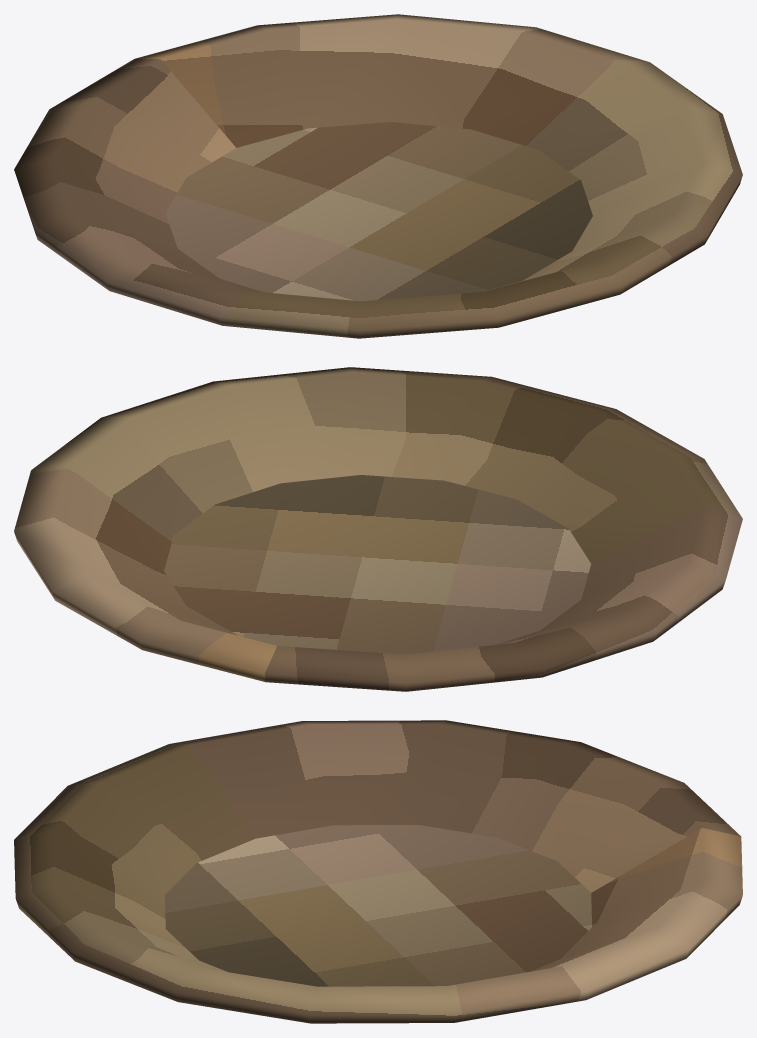
Rendered from PotsNPanDestruction.009_Cube.012.fbx.
3 views of the same model, one above another, from view 1: azimuth 30°, elevation 25°; view 2: azimuth 150°, elevation 25°; view 3: azimuth 270°, elevation 25° (orthographic).
Parts seen in each view (by area): view 1: PotsNPanDestruction_009_Cube_012; view 2: PotsNPanDestruction_009_Cube_012; view 3: PotsNPanDestruction_009_Cube_012.
Boxes of the visible parts, <box> form: PotsNPanDestruction_009_Cube_012: <box>14,14,742,338</box>; PotsNPanDestruction_009_Cube_012: <box>14,367,742,691</box>; PotsNPanDestruction_009_Cube_012: <box>14,720,742,1023</box>.
Size of the model in its own units: 49.4 by 5.94 by 49.41.
